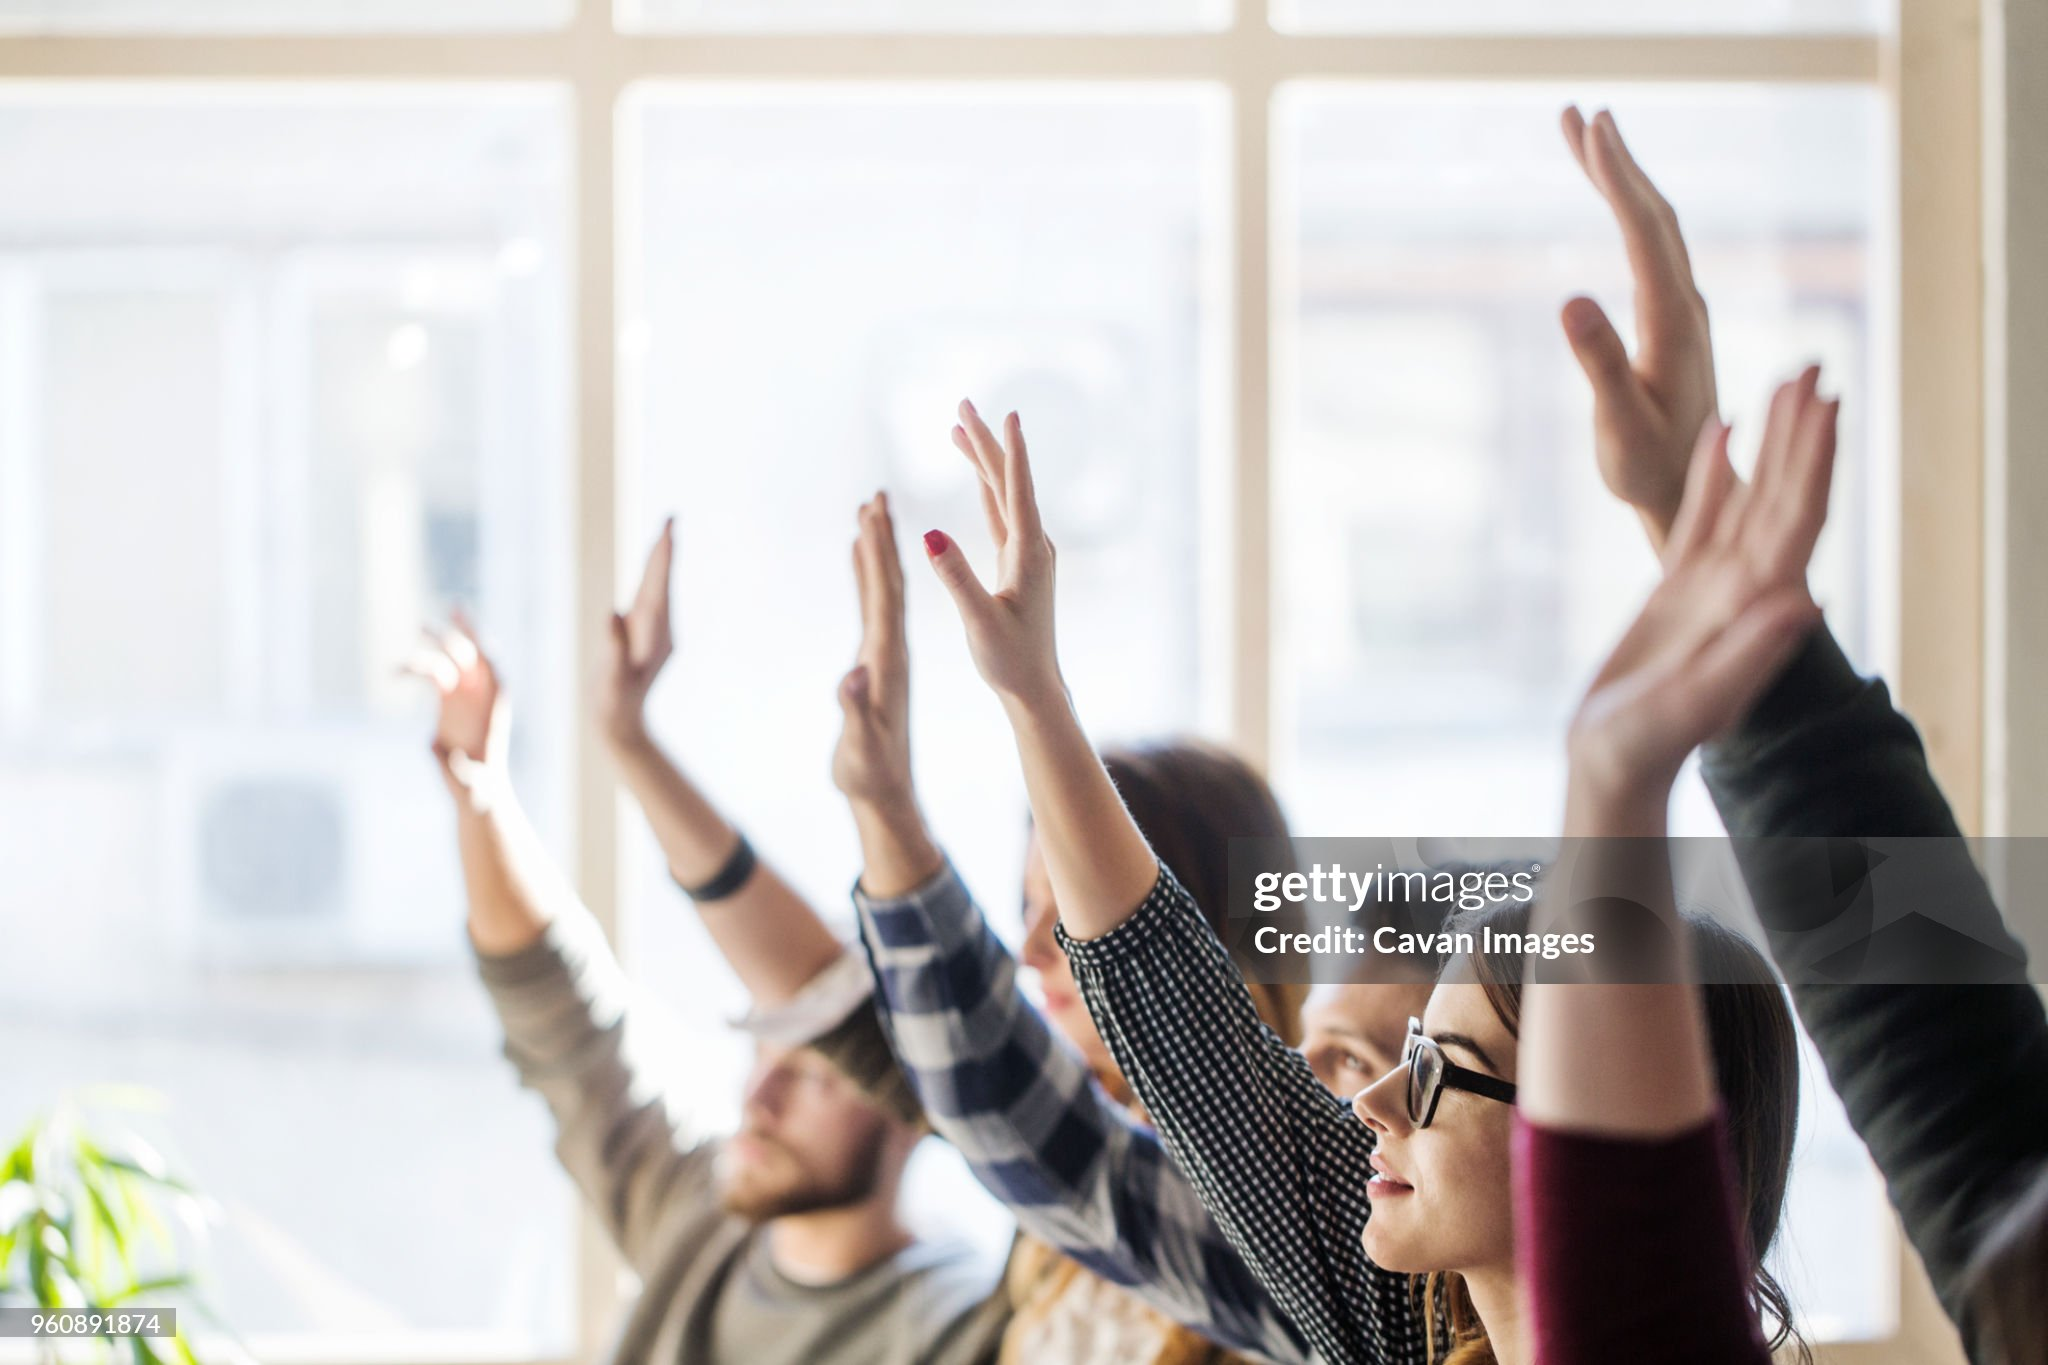mais-de-75-porcento: (382, 61, 2043, 1363)
